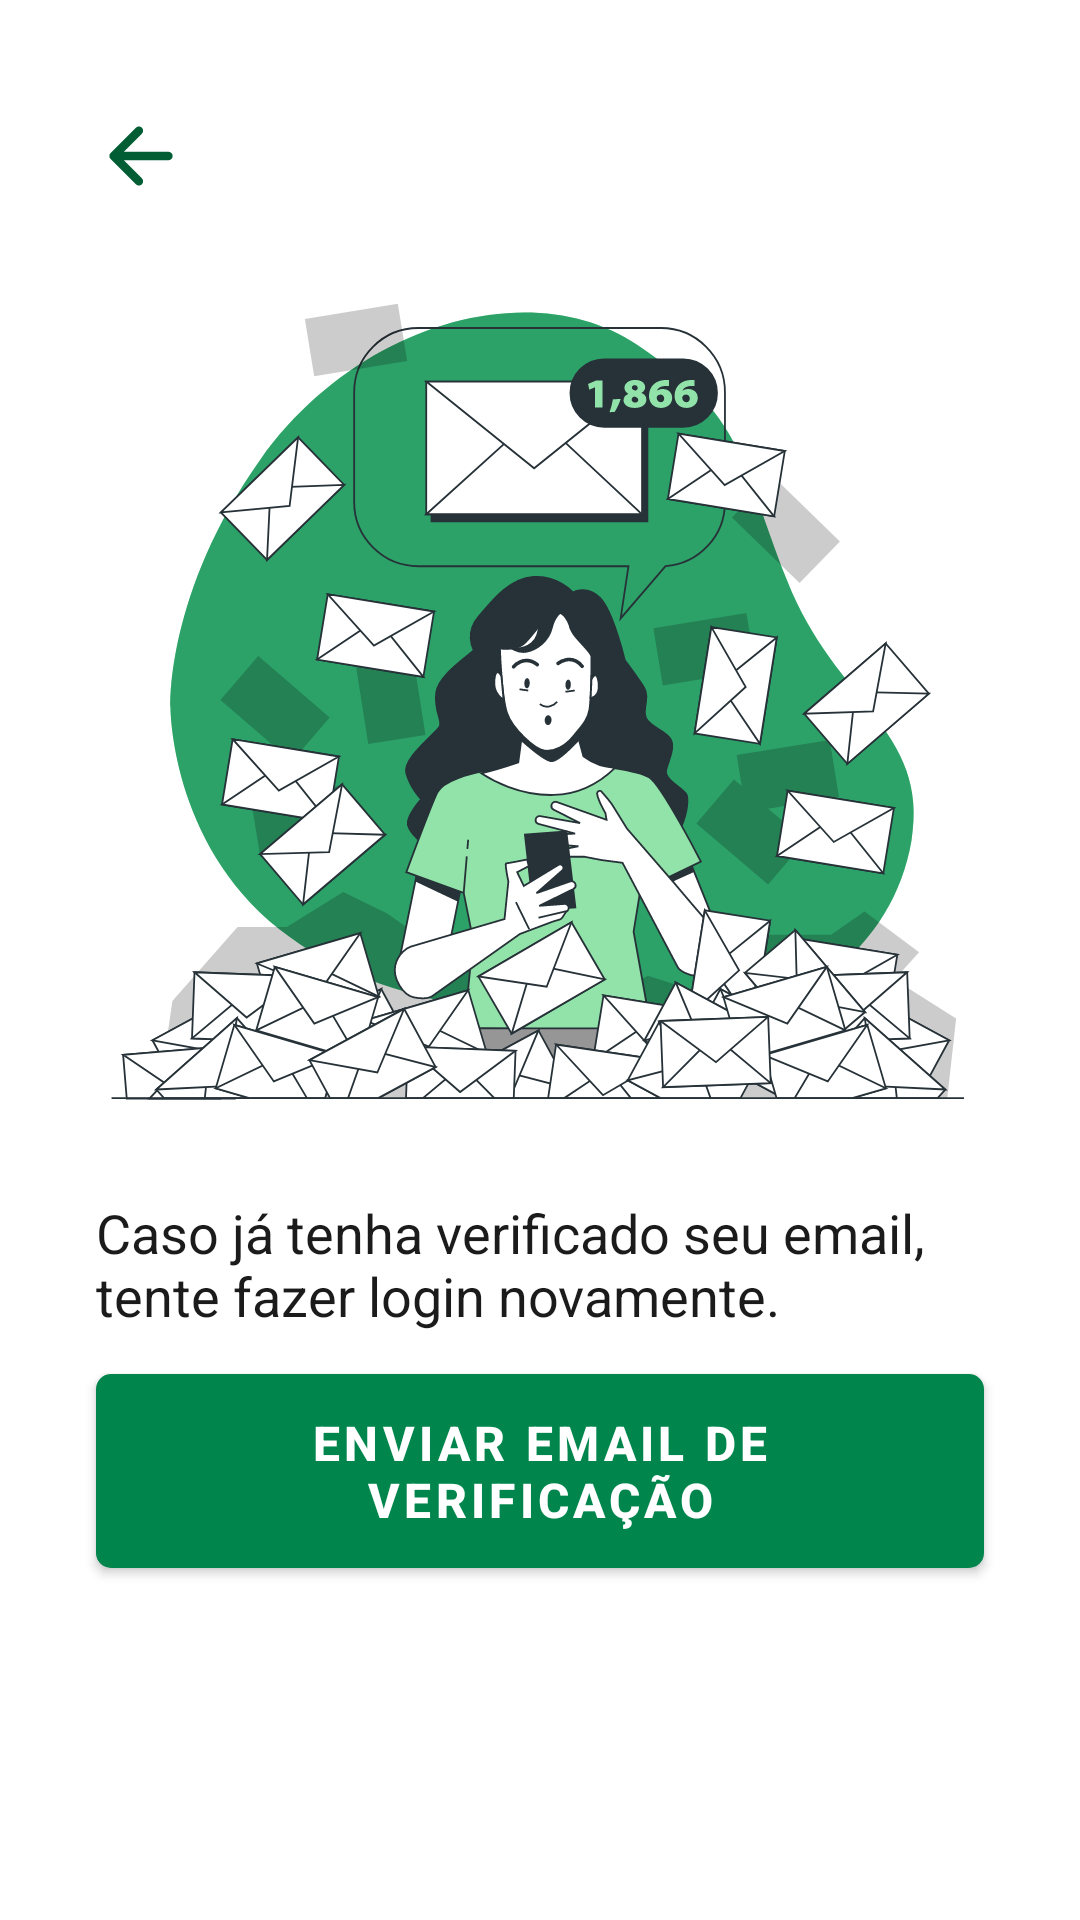

Point at icon controls on the screen. Image size 1080 × 1920, points as [x,y].
back: [141,156]
